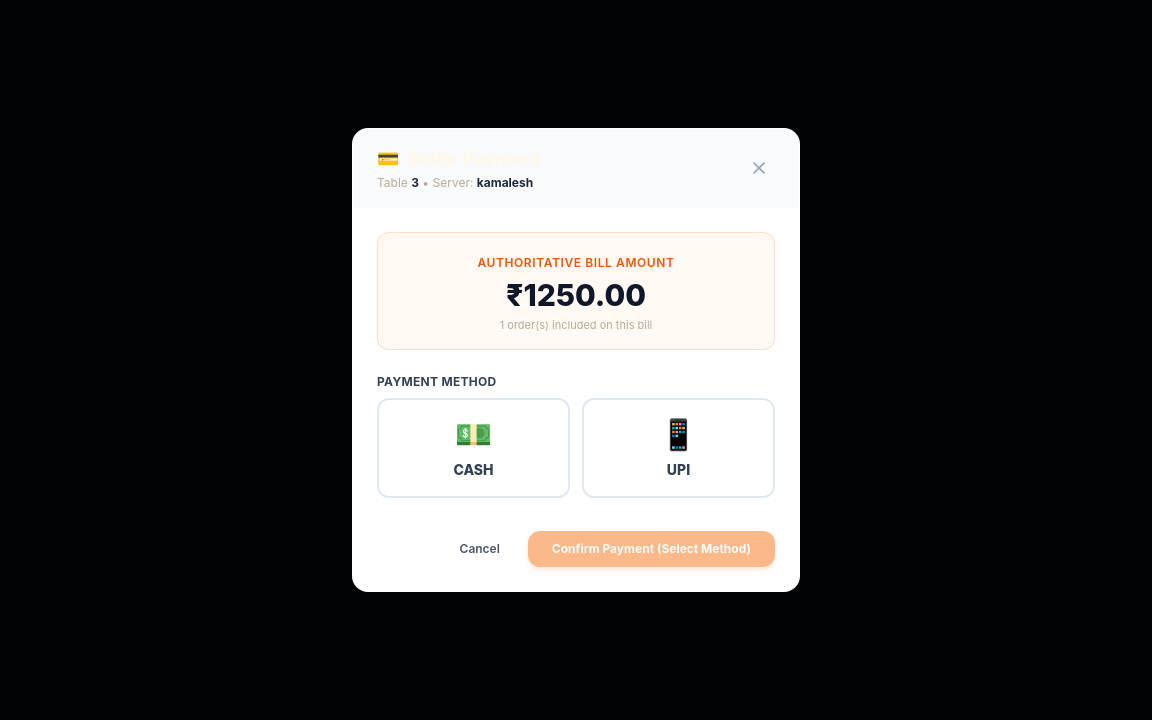
Test: Tiffzy Server Station — Cash/UPI Payment Settlement & Bill Printing › Phase 3 & 4: Modal UI and Authoritative Bill Amount › E, F, G: allows selecting CASH and UPI, with only one selected at a time
Check: the button with test id "confirm-payment-btn" is disabled, box [528,531,775,567]
Select CASH
What coordinates should you click on to do the following:
click the button with test id "payment-method-cash"
I would click on:
 (474, 448)
Its box is [377,398,570,498].
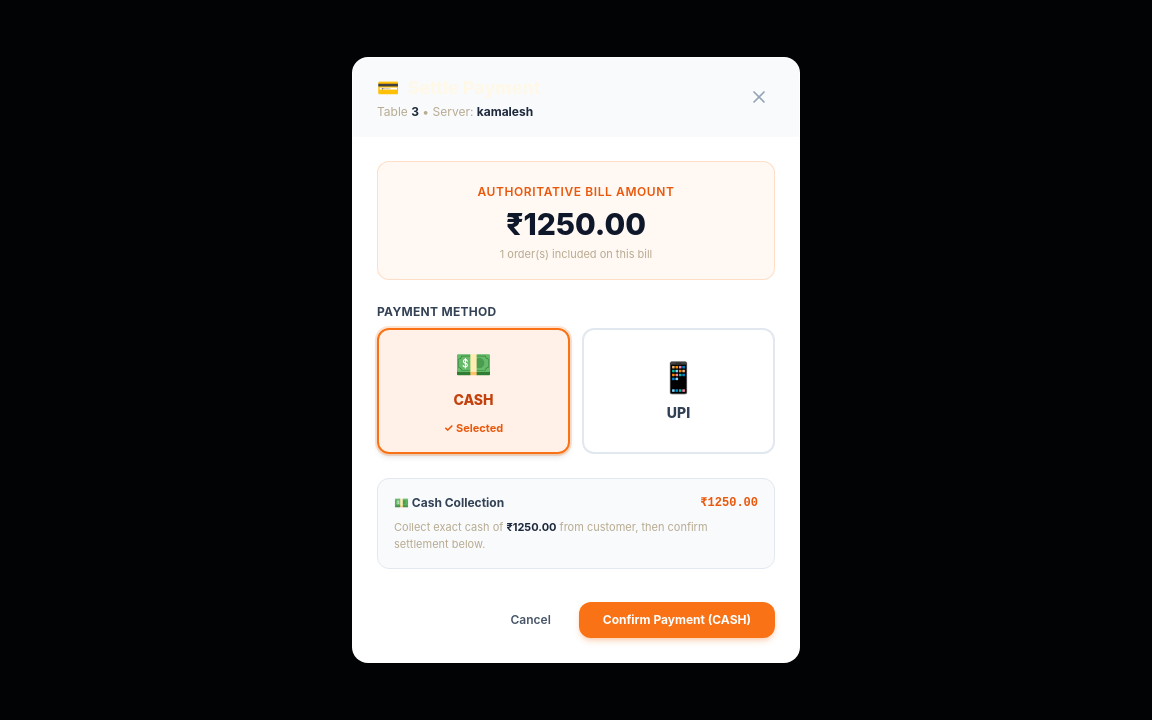
Check: the button "Confirm Payment (CASH)" is enabled, box [579,602,775,638]
Check: the text "✓ Selected" is shown, box [444,420,503,436]
Select UPI
What coordinates should you click on to do the following:
click the button with test id "payment-method-upi"
I would click on:
 (678, 391)
Its box is [582,328,775,454].
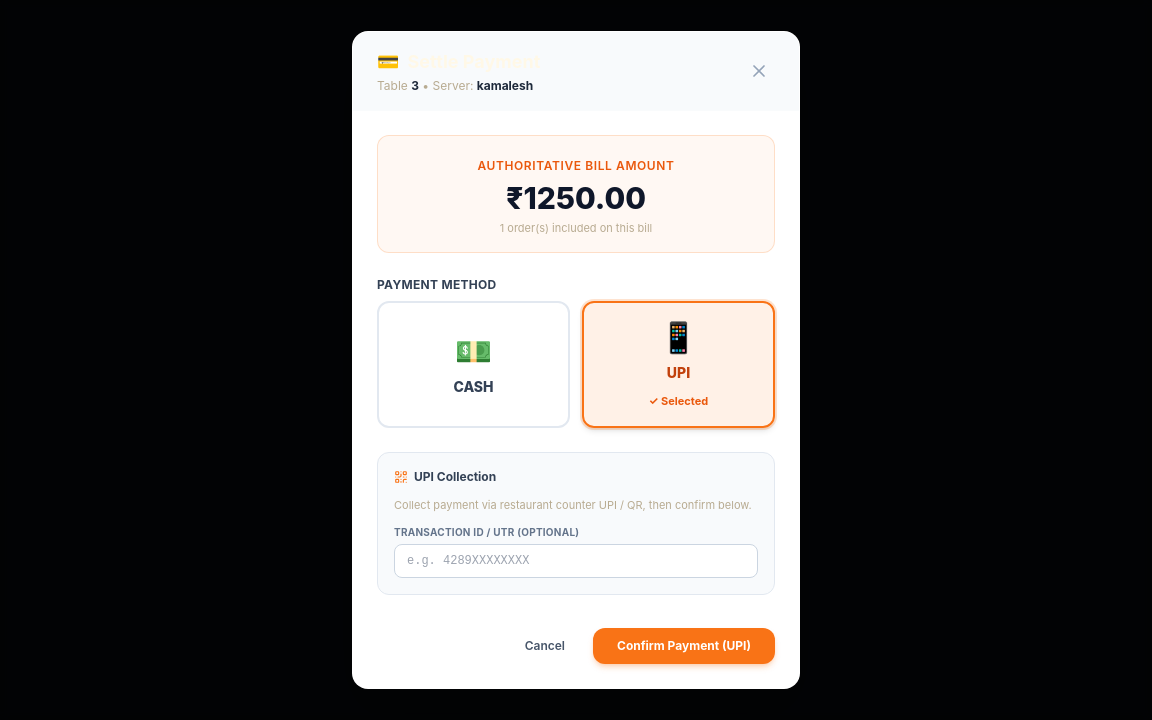
Check: the button "Confirm Payment (UPI)" is enabled, box [593,628,775,664]
Check: the element with test id "upi-details-section" is shown, box [377,452,775,595]
Check: the field with test id "upi-reference-input" is shown, box [394,544,758,578]
